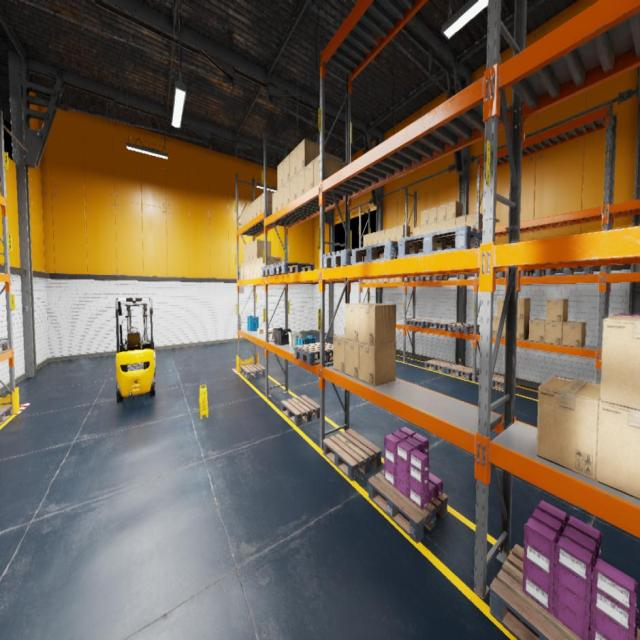box: (536, 375, 600, 480), (596, 400, 640, 500), (600, 315, 640, 410), (358, 343, 396, 386), (359, 304, 396, 346), (345, 303, 373, 342), (314, 152, 343, 186), (297, 139, 319, 173), (562, 322, 586, 348), (345, 339, 359, 379), (546, 299, 569, 322), (544, 322, 566, 346), (333, 334, 345, 373), (528, 318, 546, 342), (262, 256, 280, 276), (253, 240, 271, 259), (516, 318, 530, 340), (446, 200, 462, 219), (517, 298, 530, 319), (466, 212, 482, 229), (305, 160, 313, 192), (261, 192, 273, 212), (290, 146, 297, 179), (289, 175, 297, 202), (297, 168, 304, 198), (397, 224, 410, 240), (284, 153, 290, 185), (497, 318, 506, 337), (497, 298, 506, 317), (277, 161, 283, 189), (437, 204, 446, 222), (428, 206, 437, 224), (284, 180, 290, 206), (277, 186, 283, 210), (420, 209, 428, 226), (272, 190, 277, 214), (456, 215, 466, 226), (446, 217, 455, 229), (390, 227, 397, 240), (437, 220, 446, 230), (256, 195, 260, 215), (258, 257, 262, 277), (493, 316, 497, 336), (428, 222, 436, 232), (384, 228, 390, 241), (378, 230, 384, 243), (253, 199, 257, 218), (254, 259, 258, 278), (246, 243, 250, 262), (243, 245, 247, 263), (373, 232, 379, 244), (420, 224, 428, 233), (413, 226, 420, 236), (246, 262, 250, 278), (264, 330, 273, 337), (368, 233, 373, 245), (250, 202, 253, 221), (250, 241, 253, 260), (250, 260, 253, 278), (396, 278, 409, 282), (364, 234, 368, 247), (240, 211, 243, 227), (241, 263, 244, 279), (257, 328, 265, 333), (247, 205, 249, 223), (244, 208, 246, 226), (244, 262, 246, 279), (268, 326, 275, 330), (390, 278, 396, 282), (372, 279, 378, 283), (270, 333, 274, 338), (384, 278, 389, 282), (378, 278, 383, 282), (368, 279, 372, 283), (263, 328, 265, 333), (363, 280, 368, 282)
forklift: (116, 298, 155, 402)
pallets: (489, 543, 640, 639), (368, 470, 448, 543), (323, 428, 381, 481), (398, 225, 482, 258), (282, 395, 320, 425), (352, 241, 398, 265), (293, 342, 333, 365), (323, 250, 364, 269), (478, 374, 516, 391), (446, 363, 479, 380), (272, 262, 314, 275), (425, 359, 454, 374), (545, 267, 593, 276), (240, 364, 265, 378), (448, 322, 479, 333), (506, 269, 546, 277), (426, 321, 456, 330), (0, 404, 12, 425), (406, 319, 432, 328), (420, 275, 448, 281), (479, 272, 505, 278), (262, 265, 275, 276), (0, 340, 10, 354), (405, 277, 426, 281)
